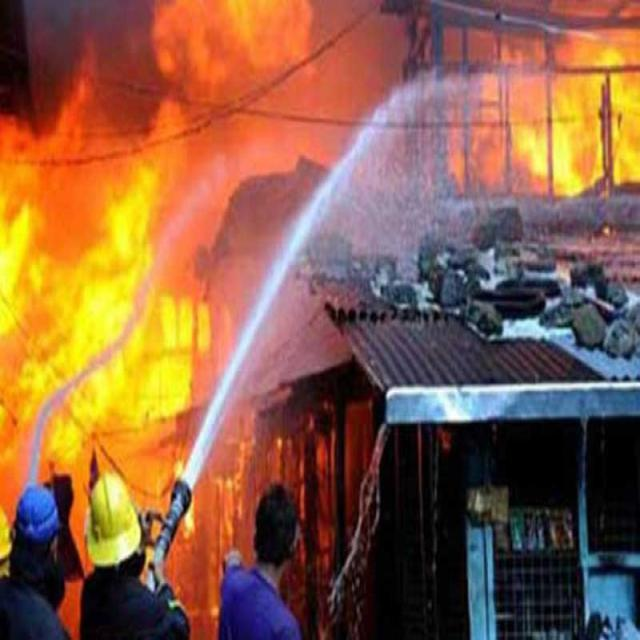Fire: (0, 118, 204, 546), (512, 42, 638, 196)
Smoke: (24, 0, 406, 311), (453, 0, 636, 190)
